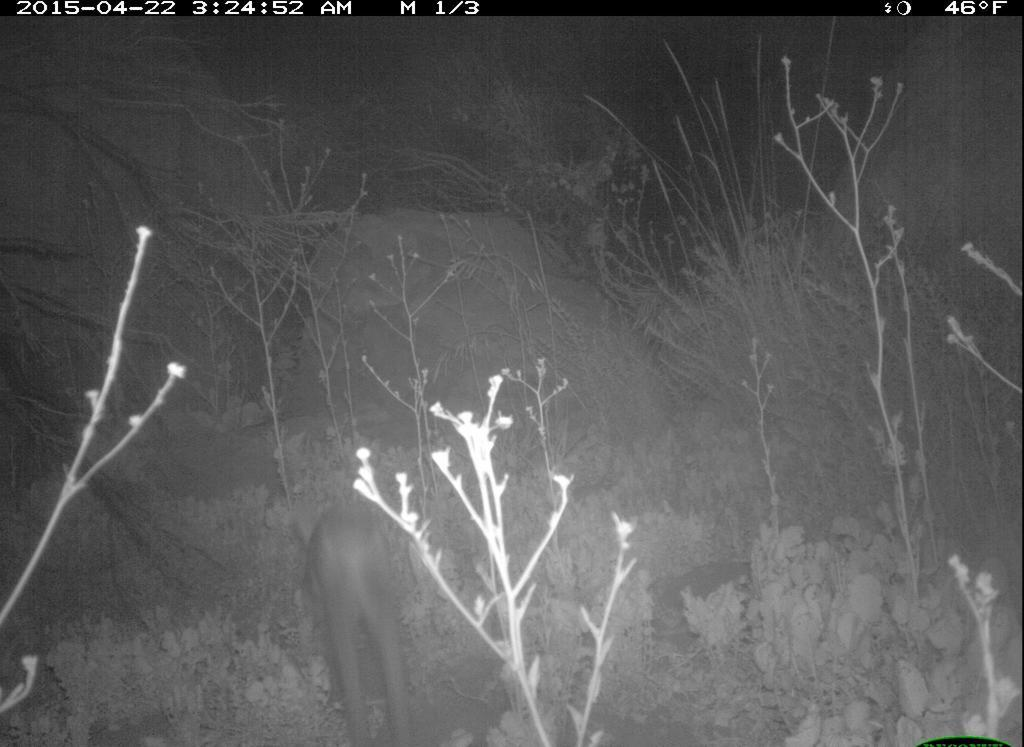rabbit: (289, 495, 431, 747)
